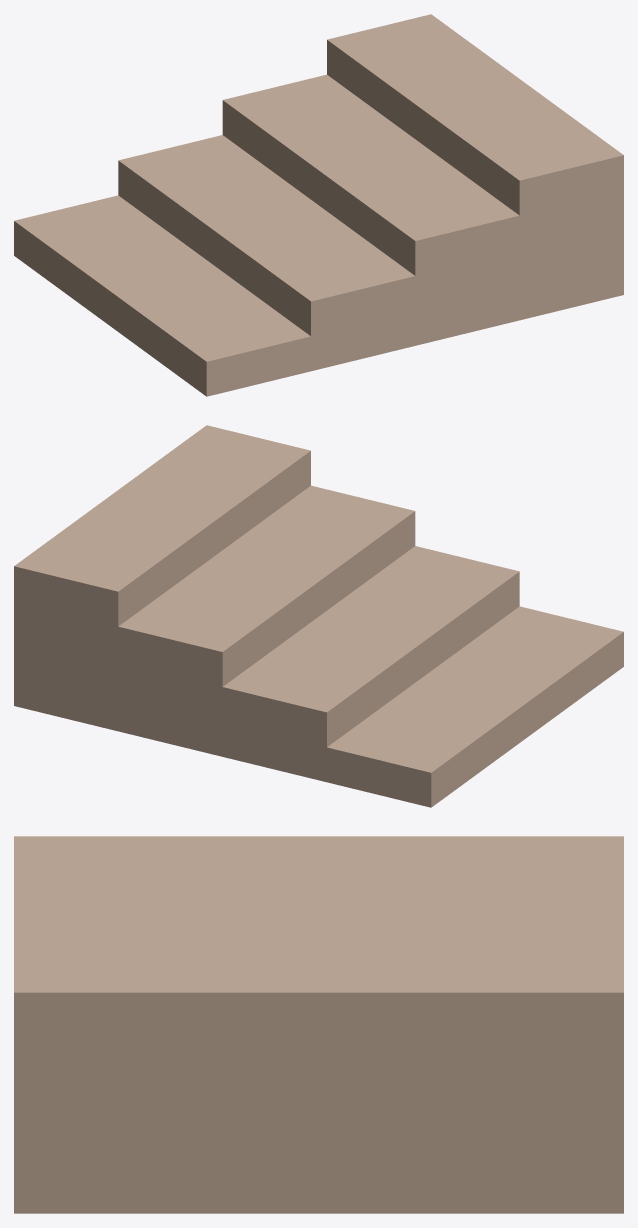
File: lab-steps.glb
3 views of the same model, one above another, from view 1: azimuth 30°, elevation 25°; view 2: azimuth 150°, elevation 25°; view 3: azimuth 270°, elevation 25° (orthographic). The views are drawn at different scales.
Parts seen in each view (by area): view 1: steps; view 2: steps; view 3: steps.
Boxes of the visible parts, left/top/right/bottom form: steps: left=14, top=14, right=623, bottom=396; steps: left=14, top=425, right=623, bottom=807; steps: left=14, top=836, right=623, bottom=1213.
Size of the model in its own units: 200 by 64 by 160.
